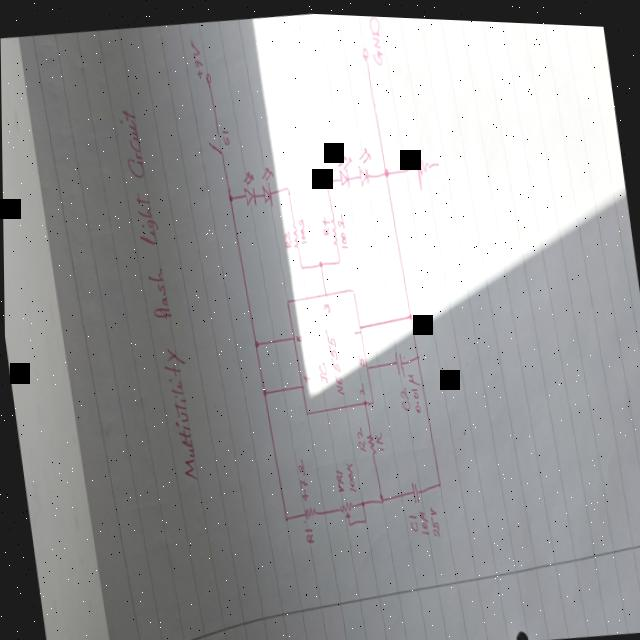capacitor: (390, 343, 405, 375), (408, 476, 419, 501)
diode: (354, 141, 374, 186), (257, 162, 277, 206), (335, 148, 355, 187), (239, 166, 258, 206)
ground: (412, 143, 442, 190)
junction: (382, 162, 389, 175), (377, 487, 383, 501), (316, 254, 323, 266), (226, 188, 232, 202), (283, 181, 289, 191), (252, 336, 258, 346), (406, 308, 412, 317), (322, 176, 328, 184), (260, 385, 265, 394), (414, 349, 419, 357), (435, 476, 440, 484), (358, 495, 363, 503), (282, 511, 287, 519), (335, 254, 340, 262), (298, 260, 303, 268), (361, 514, 366, 521), (345, 518, 350, 524)
resistor: (336, 496, 353, 516), (328, 211, 338, 243), (289, 217, 299, 246), (364, 428, 375, 453), (301, 502, 315, 518)
switch: (205, 127, 223, 154)
terminal: (360, 42, 369, 58), (204, 69, 212, 84)
text: (116, 104, 201, 483), (324, 324, 342, 393), (366, 13, 385, 62), (405, 367, 423, 411), (294, 453, 309, 500), (188, 34, 204, 78), (335, 208, 347, 247), (427, 500, 439, 535), (343, 457, 355, 489), (416, 505, 429, 531), (397, 381, 409, 408), (332, 464, 344, 490), (354, 422, 365, 449), (296, 215, 307, 242), (316, 357, 327, 382), (319, 211, 331, 233), (372, 427, 382, 448), (220, 126, 231, 145), (406, 509, 416, 529), (301, 525, 313, 541), (281, 227, 291, 246), (355, 376, 363, 394), (355, 349, 363, 365), (301, 369, 310, 381), (321, 298, 329, 311), (294, 330, 301, 341), (352, 325, 361, 332)
